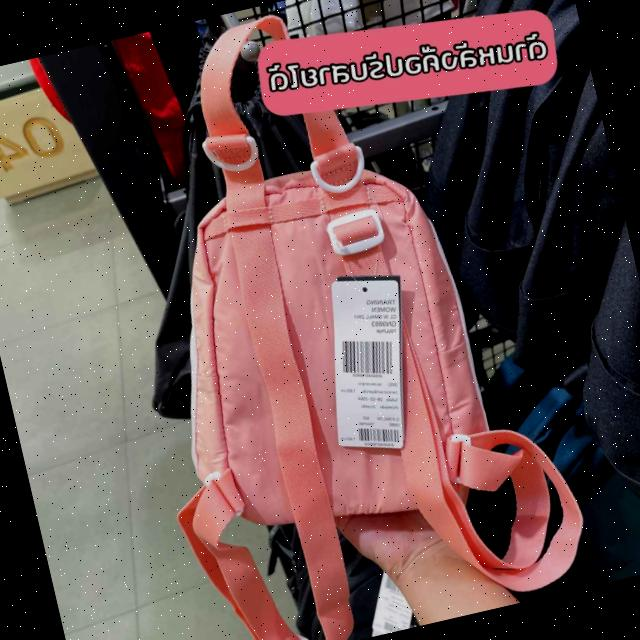handbag: (142, 123, 534, 580)
